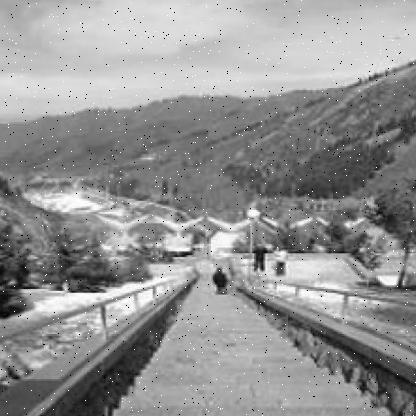stair_down: (121, 337, 367, 416)
